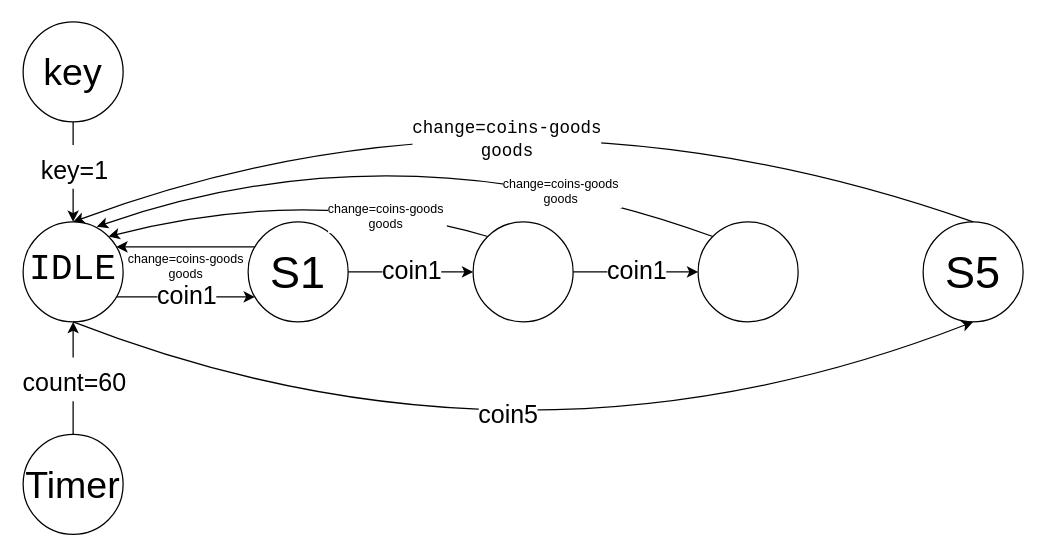
The diagram is 1045 pixels wide and 556 high, and some of its shapes have lost their labels. Here are the shapes that lost their labels. From the top down, the box of each, then its label:
(472, 221, 573, 322): S2
(697, 221, 798, 322): S3
